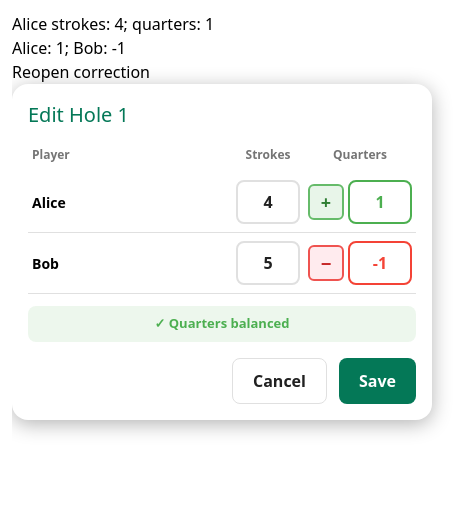
correction save through the real handler and editor › an unexpected thrown network error keeps edits available for a successful retry
This screenshot has width=460, height=519.
Replace the text in the field named "Alice strokes" with "6" at (268, 202), box [236,180,300,224]
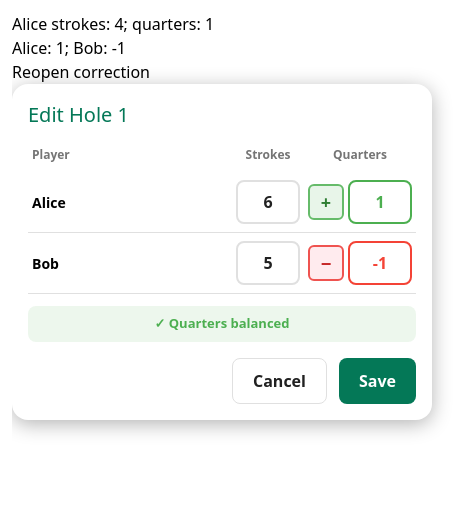
Replace the text in the field named "Alice quarters" with "2" at (380, 202), box [348,180,412,224]
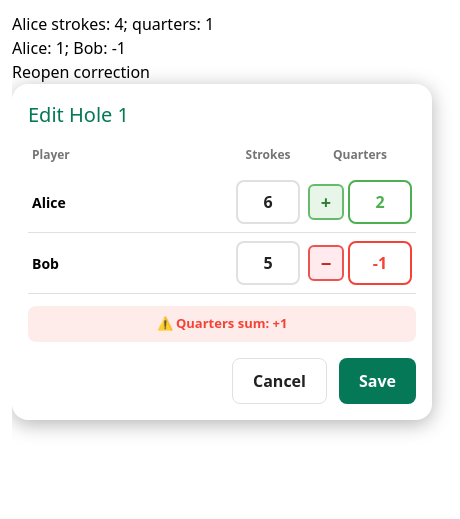
Replace the text in the field named "Bob quarters" with "-2" at (380, 263), box [348,241,412,285]
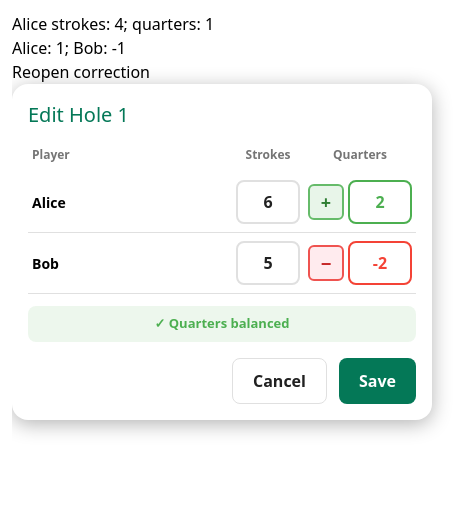
Click the button "Save" at (378, 380), box [339,358,416,404]
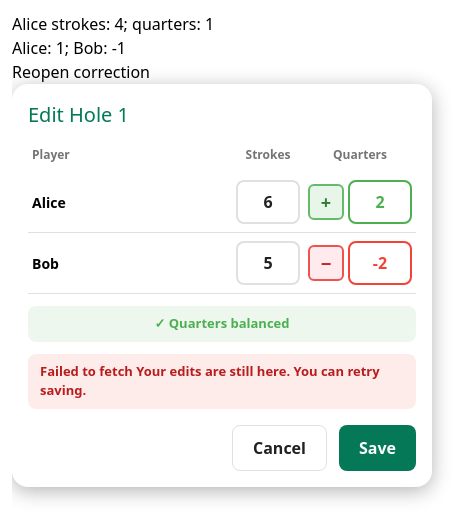
Expected: the text named "History" reads "Alice strokes: 4; quarters: 1", [12,13,214,35]
Now the message shows "Failed to fetch", box [40,362,133,380]
Now the message shows "retry", box [40,362,380,399]
Click the button "Save" at (378, 448), box [339,424,416,470]
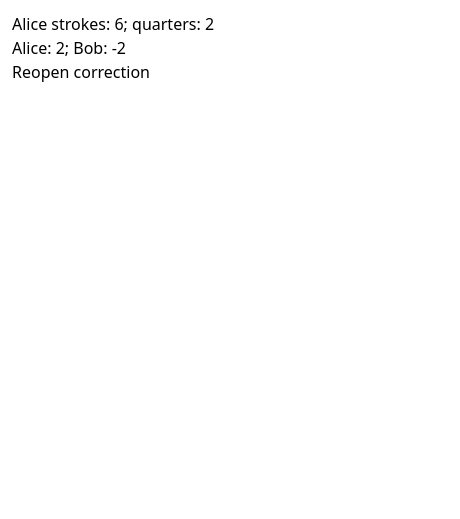
Now the text named "History" reads "Alice strokes: 6; quarters: 2", box [12,13,214,35]
Now the text named "Standings" reads "Alice: 2; Bob: -2", box [12,37,126,59]
